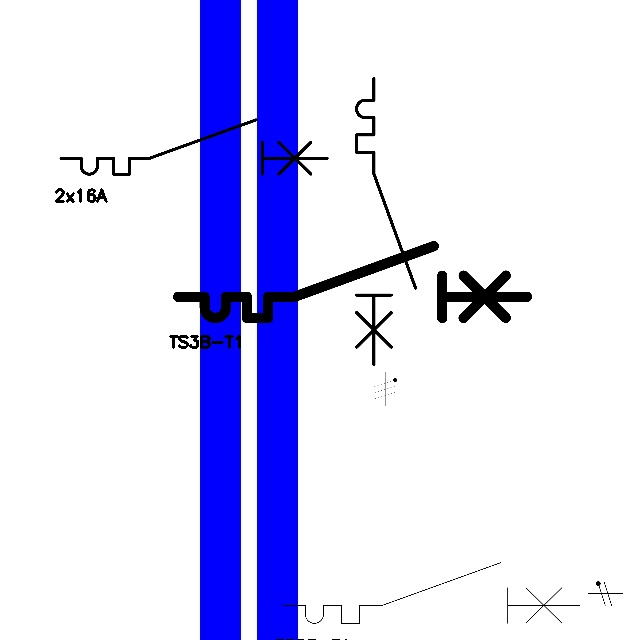interruptor_termomagnetico: (169, 237, 536, 327), (275, 555, 588, 631), (349, 71, 422, 372), (54, 113, 334, 181)
